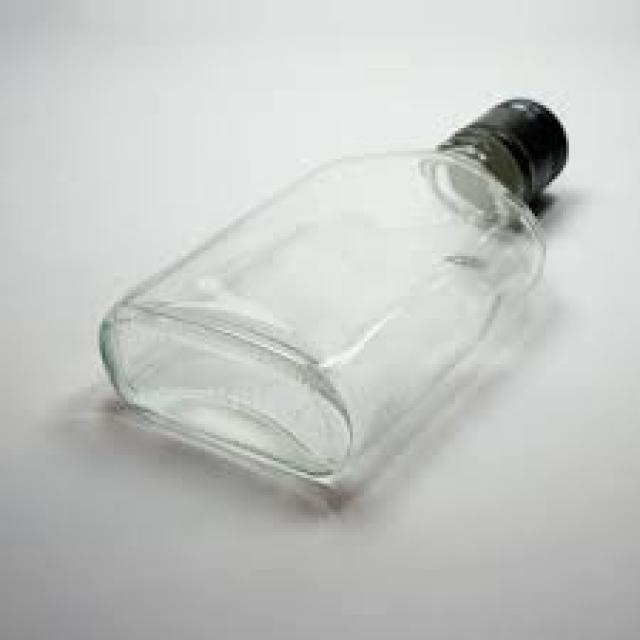glass: (91, 137, 538, 475)
metal: (441, 91, 566, 205)
